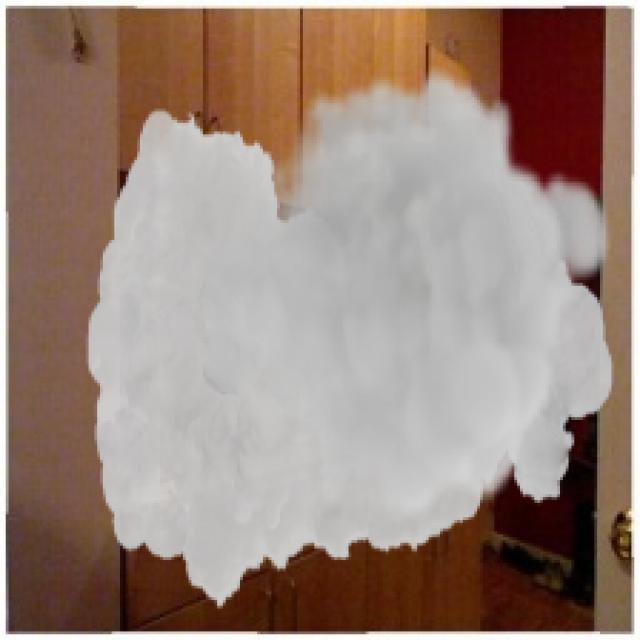smoke: (86, 66, 614, 611)
